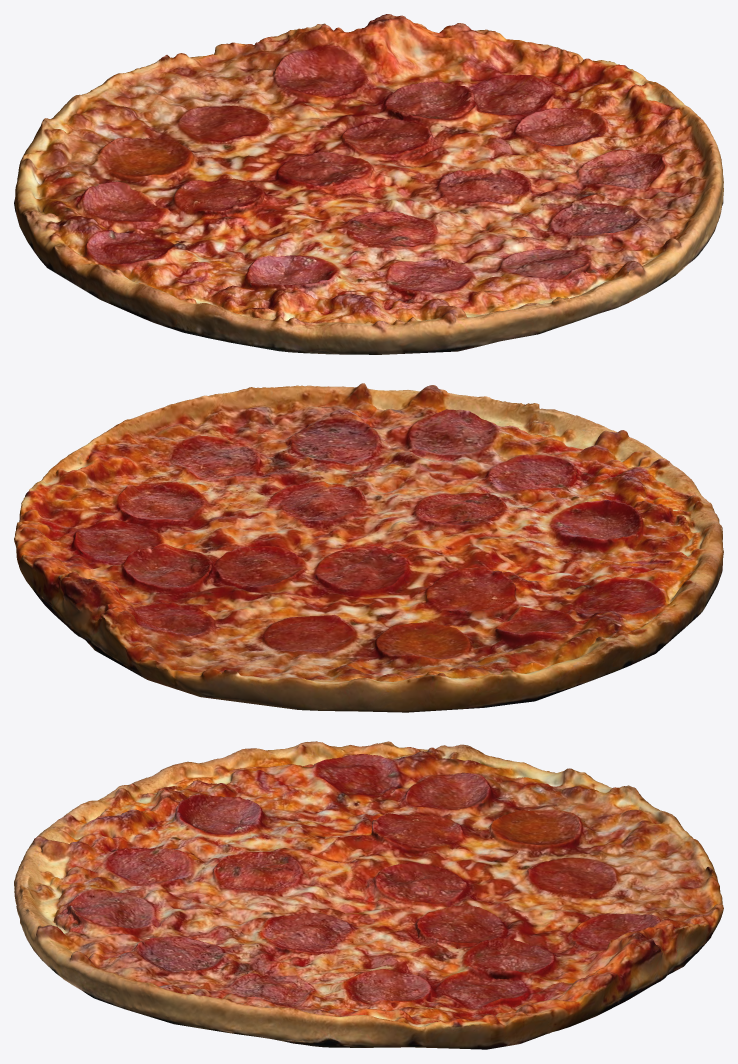
The model's file is pizza-salame-android.glb.
The picture shows the model from 3 angles, top to bottom: view 1: azimuth 30°, elevation 25°; view 2: azimuth 150°, elevation 25°; view 3: azimuth 270°, elevation 25°; orthographic projection.
Visible parts, largest first — view 1: Object_4; view 2: Object_4; view 3: Object_4.
Part boxes in pixels (left/top/right/bottom): Object_4: left=14, top=14, right=723, bottom=354; Object_4: left=14, top=383, right=723, bottom=712; Object_4: left=14, top=741, right=723, bottom=1049.
Bounding box in the file's own units: 0.3436 × 0.0288 × 0.349.
Materials: 1 (1 with a texture image).
